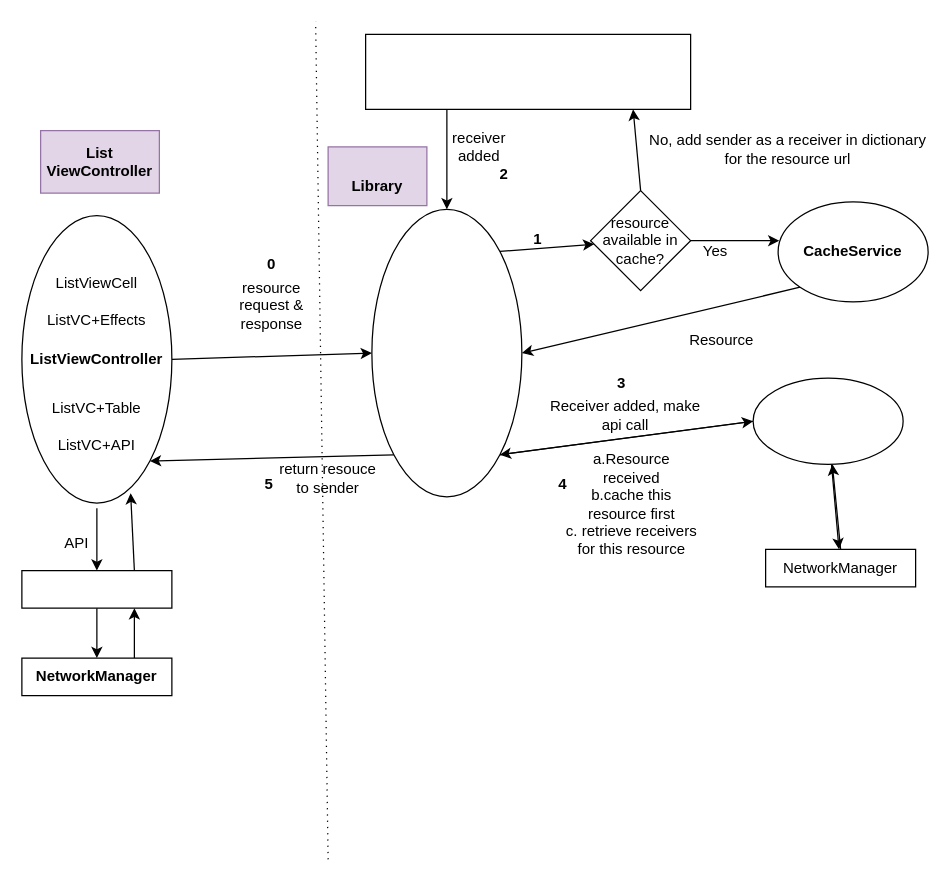
Image size: 951x883. Some labels were removed from this diagram. Each missing label, with the centre of its shape:
"APIService" belongs at point (827, 420).
"ListService" belongs at point (96, 588).
"ReceiverDictionary (url:[receiver1, receiver2])" belongs at point (527, 71).
"Resource Manager" belongs at point (446, 352).
